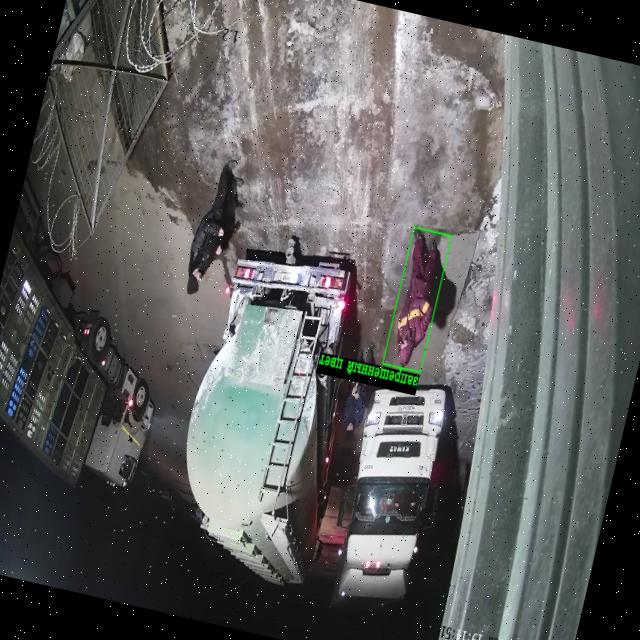Person: (187, 160, 242, 294), (341, 383, 370, 439), (367, 349, 373, 361)
Red uniform: (396, 231, 439, 366)
